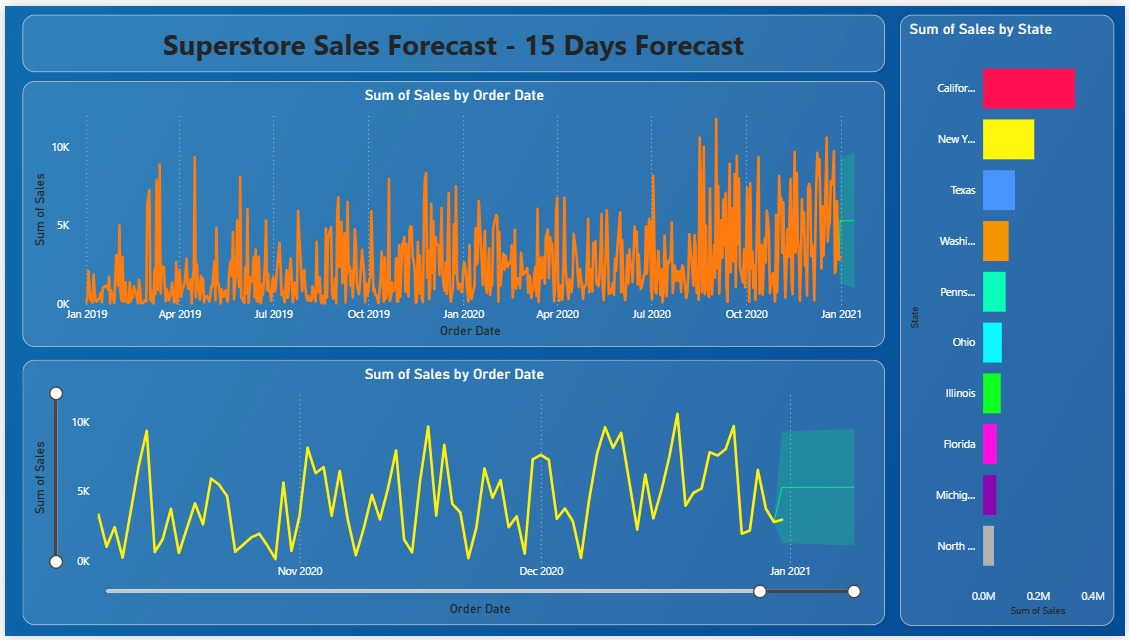

This screenshot's page, from the dashboard's own definition file:
{"tool":"powerbi","page":{"name":"Page 2","canvas":[1280,720],"ordinal":1},"visuals":[{"type":"lineChart","fields":{"Y":["Sum(Sheet1.Sales)"],"Category":["Sheet1.Order Date"]},"box":[20,85.7,985.7,304.3],"z":0},{"type":"lineChart","fields":{"Y":["Sum(Sheet1.Sales)"],"Category":["Sheet1.Order Date"]},"box":[20,404.3,985.7,302.9],"z":1000},{"type":"clusteredBarChart","fields":{"Y":["Sum(Sheet1.Sales)"],"Category":["Sheet1.State"]},"box":[1023.3,10,245,698.3],"z":2000},{"type":"textbox","box":[20,10,985.4,65.4],"z":3000}]}

Visuals, with their boxes in screenshot pixels (x1, y1, x2, y2), scaled from the page's 1280x720 canvas onto the 1129x640 screenshot:
lineChart - Sum(Sheet1.Sales) x Sheet1.Order Date: (x1=18, y1=76, x2=887, y2=347)
lineChart - Sum(Sheet1.Sales) x Sheet1.Order Date: (x1=18, y1=359, x2=887, y2=629)
clusteredBarChart - Sum(Sheet1.Sales) x Sheet1.State: (x1=903, y1=9, x2=1119, y2=630)
textbox: (x1=18, y1=9, x2=887, y2=67)
